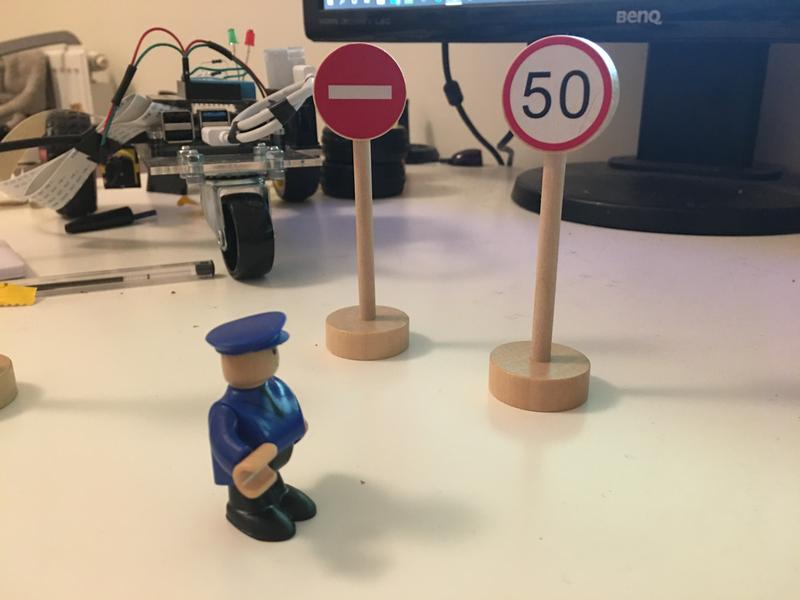Traffic_Sign_50: (503, 35, 614, 151)
Traffic_Sign_No_Entry: (316, 43, 405, 139)
person: (203, 314, 323, 550)
